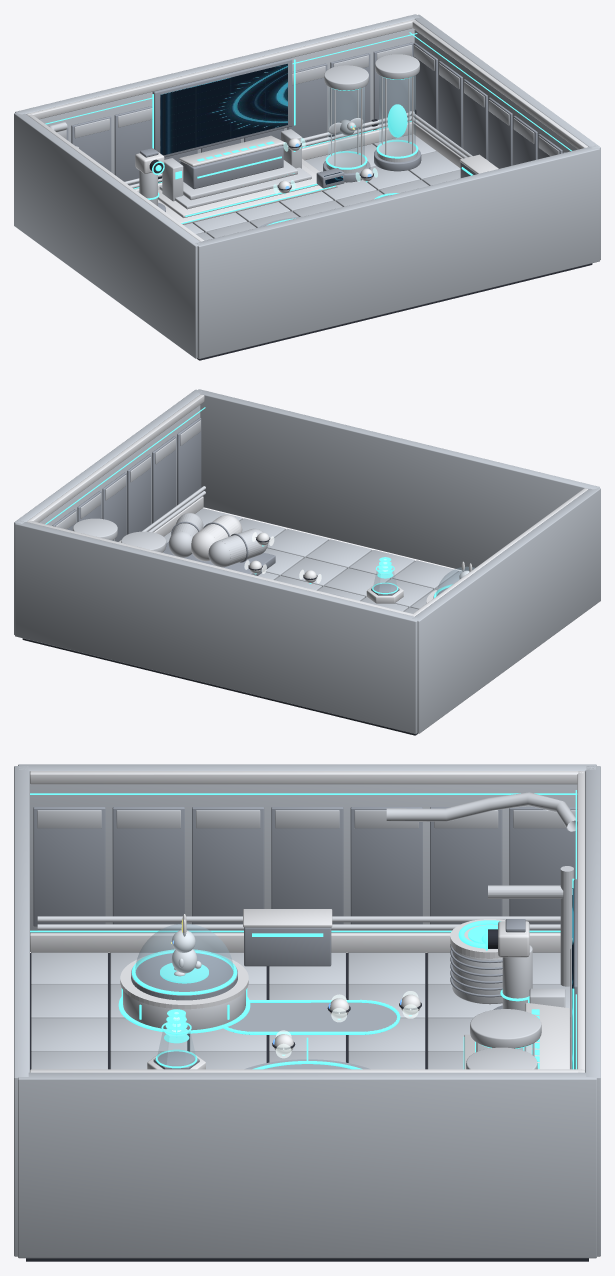
The model's file is invention_room.glb.
3 views of the same model, one above another, from view 1: azimuth 30°, elevation 25°; view 2: azimuth 150°, elevation 25°; view 3: azimuth 270°, elevation 25° (orthographic). The views are drawn at different scales.
Visible parts, largest first — view 1: wall_front, wall_left, screen_surface, wall_back, wall_right, trim_back_top, tube1_glass_smooth, tube2_glass_smooth, console_body, back_panel_2, back_panel_-2, trim_right_top (+33 smaller); view 2: wall_back, wall_front, wall_left, wall_right, trim_right_top, right_panel_-3, right_panel_-2, right_panel_-1, trim_back_top, floor_tile_5_0, floor_tile_3_0, floor_tile_6_0 (+16 smaller); view 3: wall_right, wall_left, trim_left_top, left_panel_-3, trim_left_low, left_panel_-2, left_panel_1, left_panel_-1, left_panel_2, left_panel_0, wall_back, wall_front (+61 smaller).
Part boxes in pixels (box(x1,y1,x2,y2)): wall_front: box(195, 145, 599, 358); wall_left: box(14, 112, 200, 358); screen_surface: box(160, 63, 287, 155); wall_back: box(15, 14, 419, 174); wall_right: box(412, 14, 600, 259); trim_back_top: box(26, 19, 415, 119); tube1_glass_smooth: box(328, 87, 364, 167); tube2_glass_smooth: box(379, 75, 415, 156); console_body: box(180, 145, 283, 189); back_panel_2: box(287, 63, 327, 142); back_panel_-2: box(114, 106, 152, 185); trim_right_top: box(411, 20, 587, 149); wall_back: box(15, 520, 419, 733); wall_front: box(195, 389, 599, 570); wall_left: box(412, 487, 600, 733); wall_right: box(14, 389, 201, 634); trim_right_top: box(27, 394, 204, 522); right_panel_-3: box(177, 417, 201, 505); right_panel_-2: box(152, 436, 176, 523); right_panel_-1: box(127, 454, 151, 534); trim_back_top: box(27, 521, 415, 616); floor_tile_5_0: box(306, 539, 371, 568); floor_tile_3_0: box(392, 560, 458, 589); floor_tile_6_0: box(267, 528, 328, 558); wall_right: box(18, 1072, 596, 1258); wall_left: box(18, 764, 596, 932); trim_left_top: box(30, 771, 584, 784); left_panel_-3: box(33, 807, 105, 926); trim_left_low: box(30, 932, 560, 952); left_panel_-2: box(112, 807, 184, 924); left_panel_1: box(350, 807, 422, 924); left_panel_-1: box(192, 807, 264, 924); left_panel_2: box(430, 807, 502, 924); left_panel_0: box(271, 807, 343, 924); wall_back: box(585, 766, 600, 1256); wall_front: box(14, 766, 29, 1256).
Bounding box in the file's own units: 18.8 × 5.22 × 14.8.
17 materials, 1 textured.
